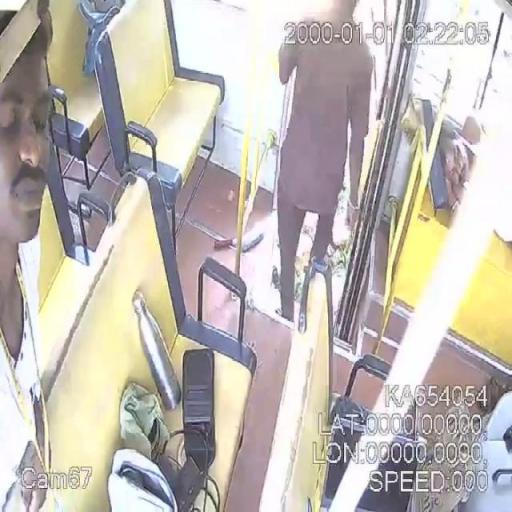persona: (272, 0, 376, 323), (0, 0, 60, 512)
